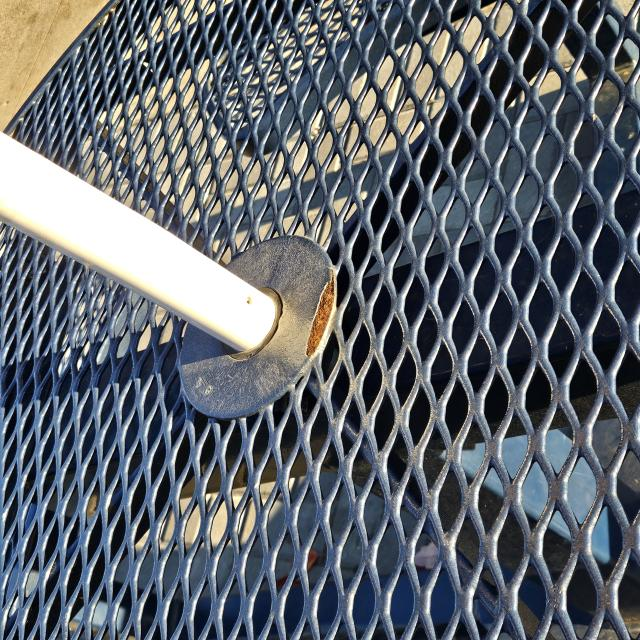Filiform Corrosion: (290, 251, 362, 384)
